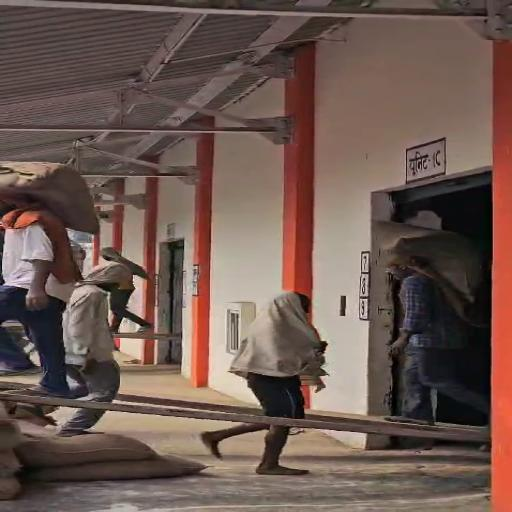bag: (360, 209, 482, 293), (0, 156, 108, 235)
